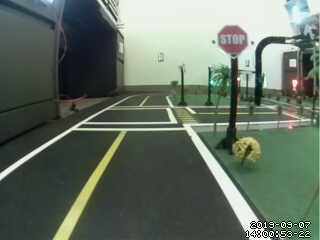Stop_Sign: (214, 22, 251, 59)
